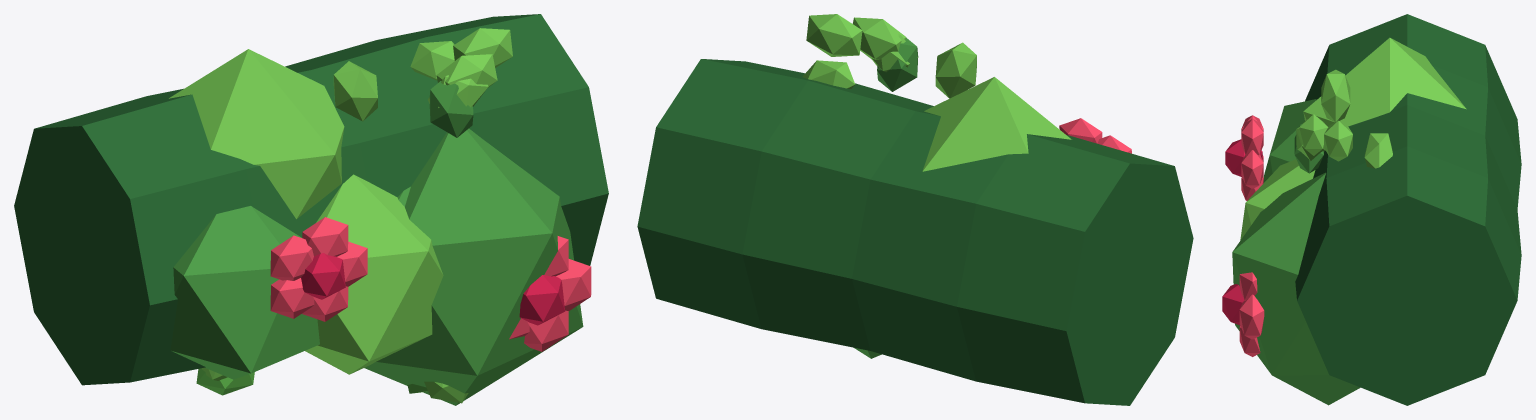
The model's file is hedge_b.glb.
The picture shows the model from 3 angles, left to right: view 1: azimuth 30°, elevation 25°; view 2: azimuth 150°, elevation 25°; view 3: azimuth 270°, elevation 25°; orthographic projection. The views are drawn at different scales.
Parts seen in each view (by area): view 1: Core; view 2: Core; view 3: Core.
Part boxes in pixels (x1,y1,x2,y2): Core: (14,14,608,405); Core: (637,14,1193,405); Core: (1222,14,1521,405).
Size of the model in its own units: 1 by 0.7721 by 0.6963.
